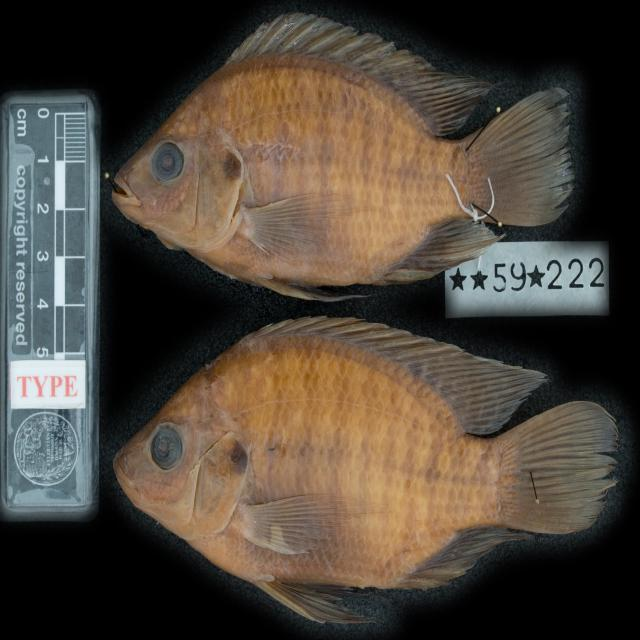ikan: (104, 311, 616, 624), (100, 15, 596, 296)
